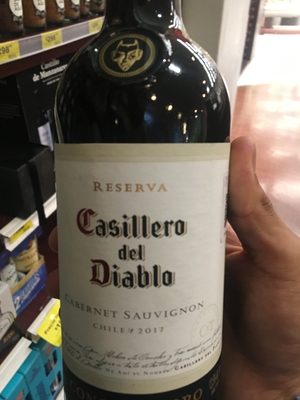casillero del diablo cabernet sauvignon: (55, 9, 234, 400)
